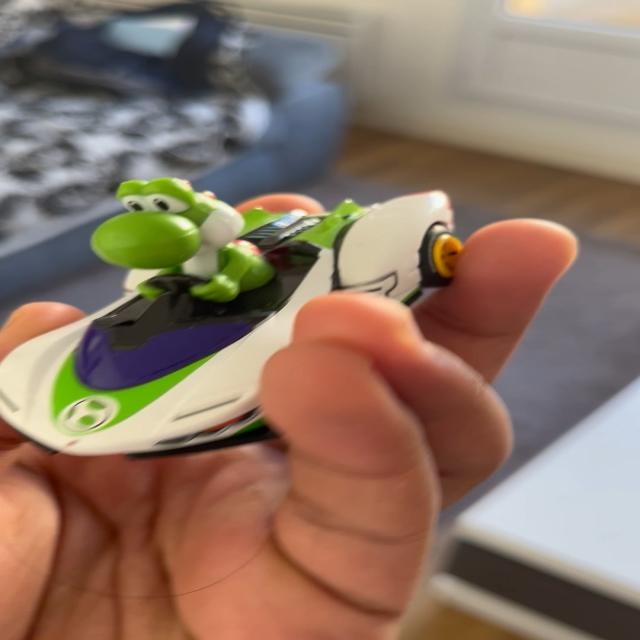yoshi: (0, 153, 469, 470)
